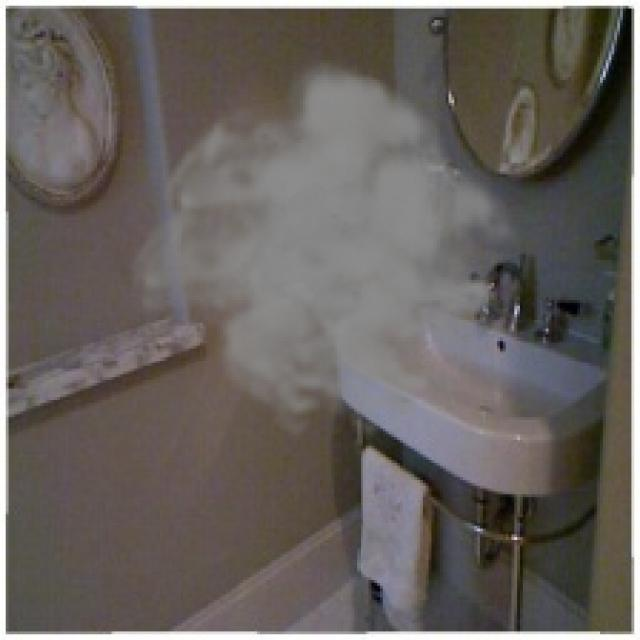smoke: (123, 57, 534, 440)
